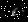person: (19, 5, 28, 16), (14, 9, 20, 16)
